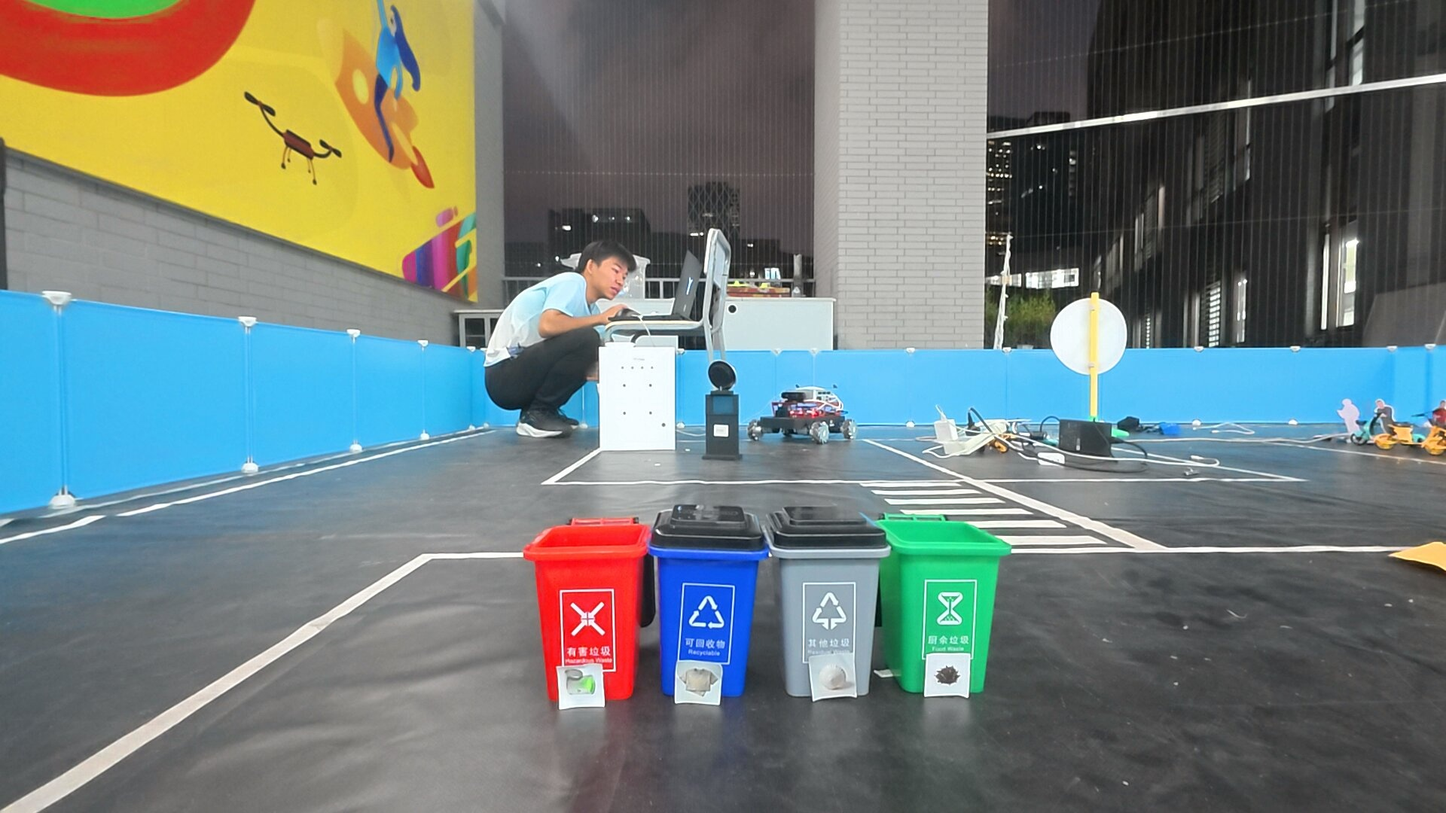food_trash: (927, 656, 968, 694)
hazardous_trash: (560, 668, 601, 705)
other_trash: (812, 657, 851, 695)
recyclable_trash: (678, 662, 720, 703)
